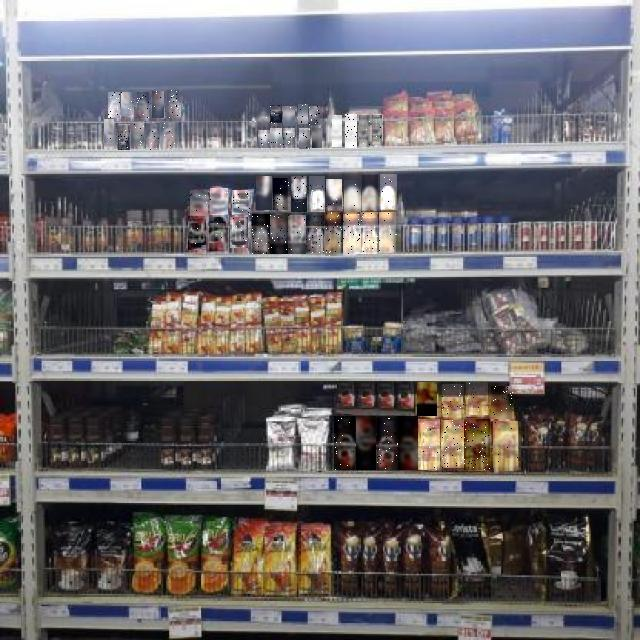Coffee: (465, 419, 491, 470), (493, 422, 518, 470), (334, 416, 355, 470), (377, 416, 398, 470), (418, 419, 440, 470), (441, 420, 464, 468), (356, 416, 376, 470), (399, 416, 419, 470), (325, 212, 343, 256), (360, 212, 378, 254), (380, 212, 398, 253), (466, 382, 488, 415), (492, 386, 514, 419), (252, 214, 270, 254), (270, 215, 288, 254), (289, 215, 307, 254), (209, 215, 228, 251), (307, 215, 325, 253), (343, 214, 360, 254), (417, 382, 437, 416), (442, 384, 464, 414), (380, 175, 397, 211), (188, 216, 206, 250), (230, 218, 248, 252), (309, 176, 325, 212), (291, 176, 307, 212), (362, 175, 378, 210), (256, 176, 272, 210), (344, 180, 361, 212), (190, 190, 208, 219), (274, 178, 290, 210), (327, 180, 343, 210), (160, 123, 178, 149), (210, 188, 228, 214), (232, 190, 250, 215), (345, 114, 357, 148), (360, 115, 372, 147), (167, 90, 179, 119), (146, 124, 159, 150), (153, 91, 165, 118), (332, 115, 342, 147), (108, 93, 120, 119), (137, 93, 149, 119), (131, 124, 144, 148), (118, 124, 130, 150), (373, 115, 383, 145), (104, 120, 114, 150), (122, 93, 134, 117), (255, 108, 270, 127), (270, 106, 282, 126), (283, 106, 295, 126), (299, 128, 310, 149), (310, 106, 322, 125), (270, 128, 282, 146), (283, 128, 295, 146), (258, 130, 270, 148), (298, 105, 308, 125), (312, 129, 322, 149)
